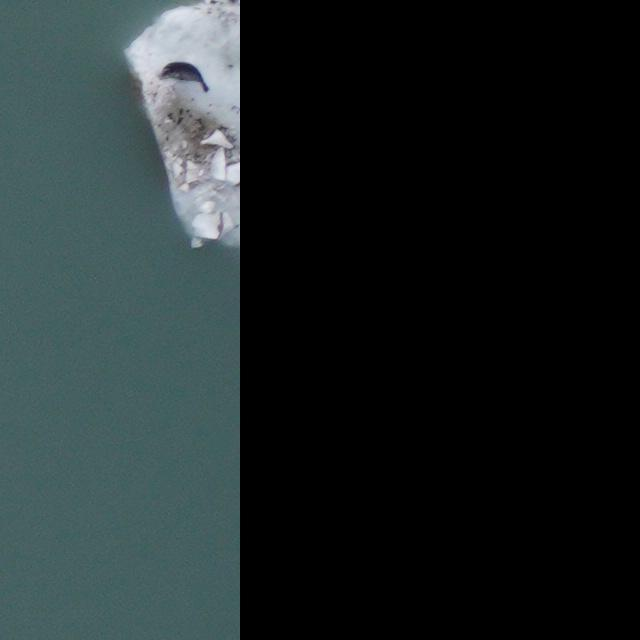seal: (158, 56, 214, 94)
